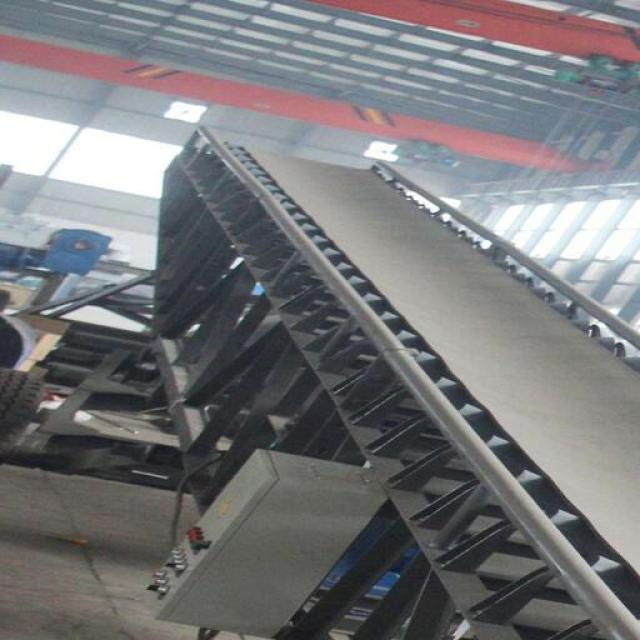conveyor: (245, 149, 640, 583)
